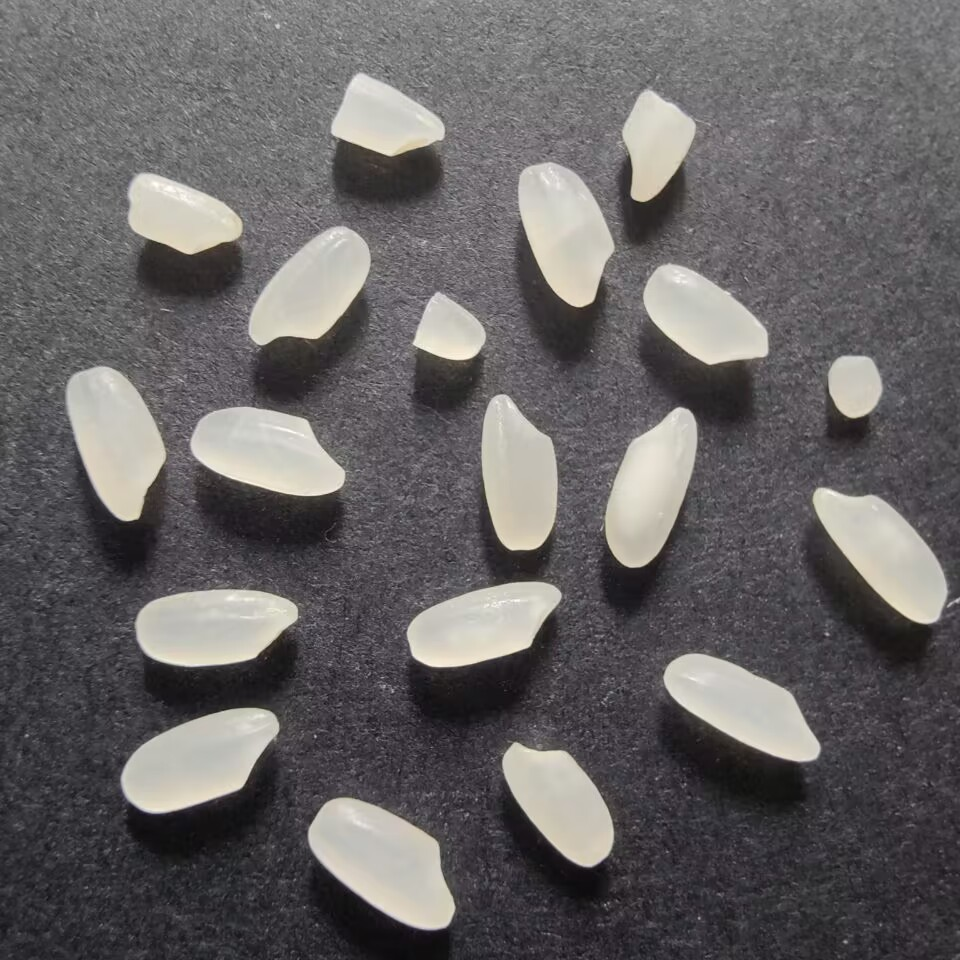broken: (327, 68, 450, 164), (120, 170, 248, 260), (616, 86, 701, 206), (406, 287, 490, 363), (822, 347, 888, 420)
rice: (301, 792, 460, 936), (656, 649, 826, 769), (810, 484, 951, 628), (120, 704, 281, 822), (61, 362, 170, 531), (602, 399, 701, 572), (495, 738, 620, 873), (247, 224, 376, 350), (186, 403, 350, 502), (515, 161, 619, 313), (476, 388, 564, 558), (404, 579, 566, 669), (129, 586, 302, 670), (641, 260, 773, 368)
